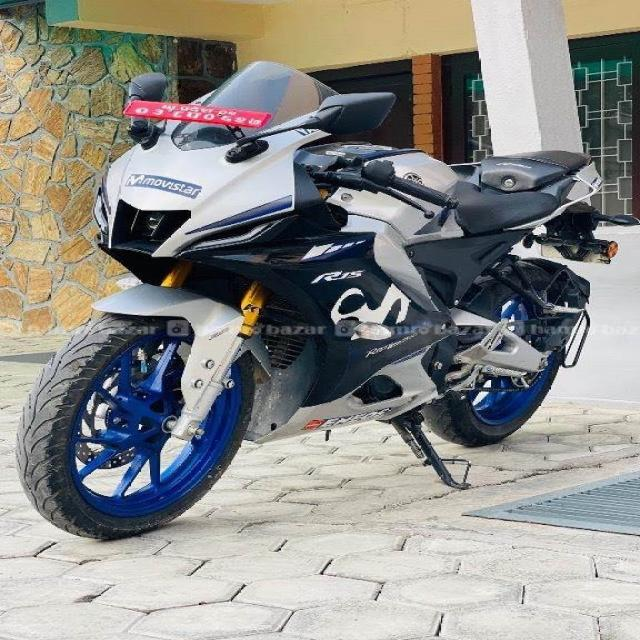License-plate: (120, 90, 278, 135)
